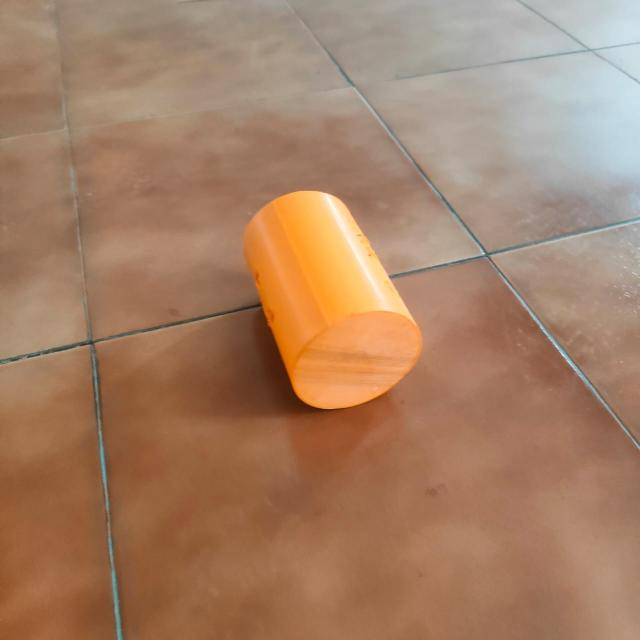Cylinder: (242, 188, 423, 410)
